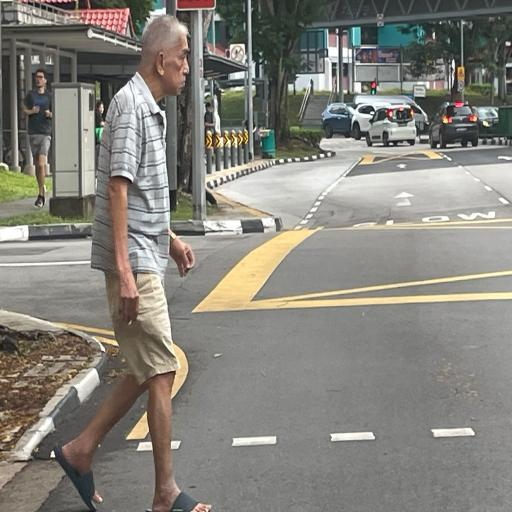person_right: (58, 2, 212, 510)
